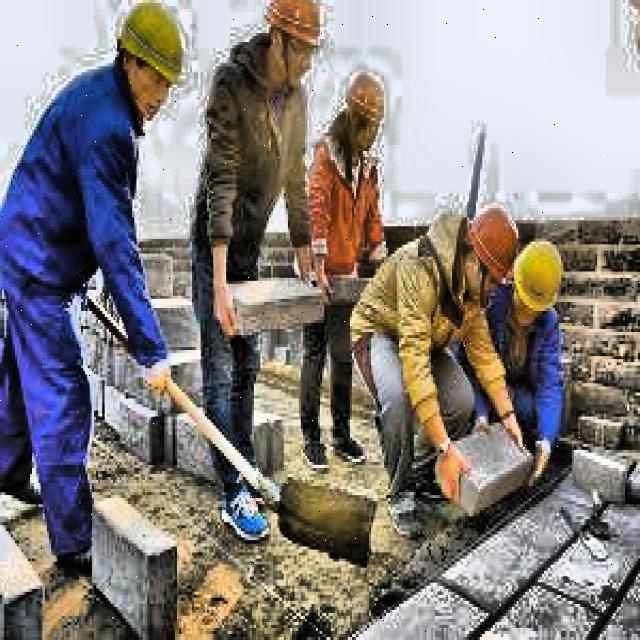helmet: (109, 3, 194, 127), (258, 3, 328, 97), (462, 193, 520, 299), (512, 236, 568, 320), (339, 63, 386, 163)
